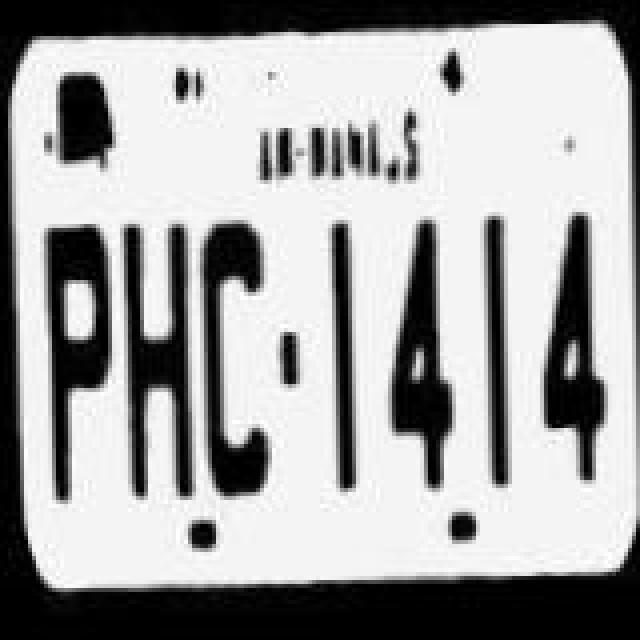1: (312, 216, 364, 496), (474, 198, 522, 494)
4: (382, 204, 462, 488), (536, 200, 612, 492)
C: (196, 208, 280, 504)
H: (118, 200, 198, 496)
P: (32, 198, 116, 498)
